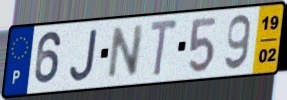5: (185, 15, 220, 75)
6: (33, 30, 63, 88)
9: (223, 12, 252, 72)
J: (68, 27, 100, 83)
N: (104, 22, 146, 82)
T: (148, 17, 180, 80)
